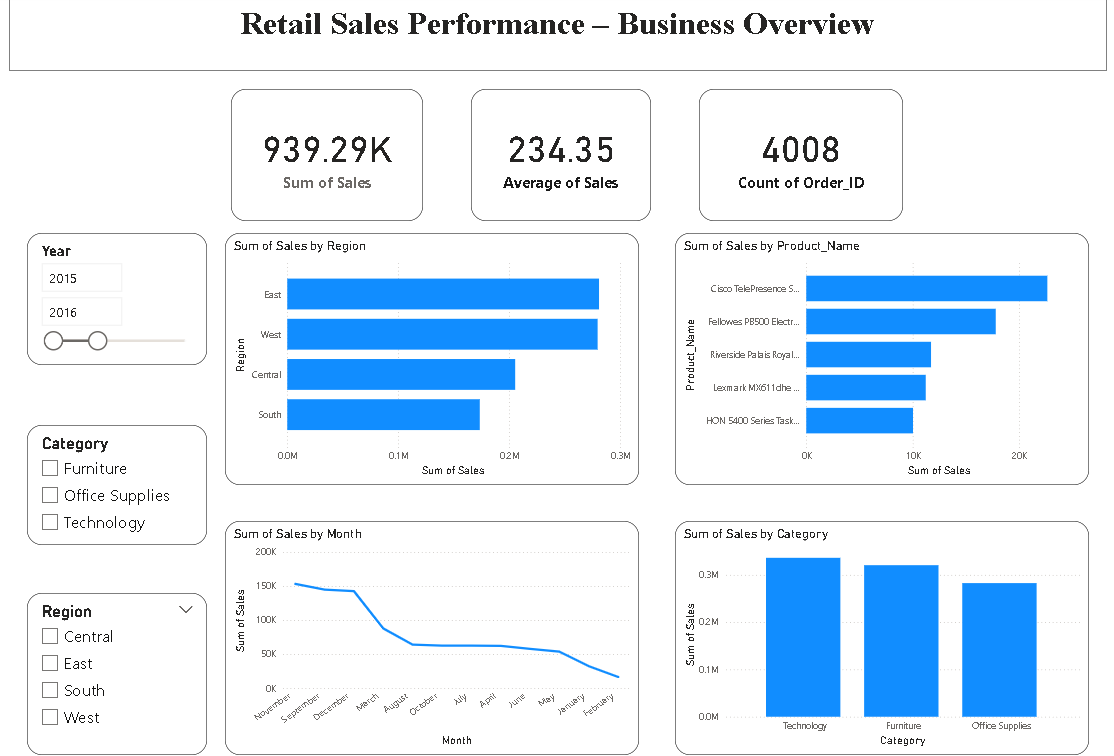

The page's visual inventory and layout, read from the dashboard file:
{"tool":"powerbi","page":{"name":"Page 1","canvas":[1700,1800],"ordinal":0},"visuals":[{"type":"clusteredBarChart","fields":{"Category":["retail_sales_db retail_sales_cleaned.Region"],"Y":["Sum(retail_sales_db retail_sales_cleaned.Sales)"]},"box":[312,336,552,336],"z":0},{"type":"clusteredColumnChart","fields":{"Category":["retail_sales_db retail_sales_cleaned.Category"],"Y":["Sum(retail_sales_db retail_sales_cleaned.Sales)"]},"box":[912,720,552,312],"z":1000},{"type":"lineChart","fields":{"Category":["retail_sales_db retail_sales_cleaned.Month"],"Y":["Sum(retail_sales_db retail_sales_cleaned.Sales)"]},"box":[312,720,552,312],"z":2000},{"type":"clusteredBarChart","fields":{"Category":["retail_sales_db retail_sales_cleaned.Product_Name"],"Y":["Sum(retail_sales_db retail_sales_cleaned.Sales)"]},"box":[912,336,552,336],"z":3000},{"type":"slicer","title":"Year","fields":{"Values":["retail_sales_db retail_sales_cleaned.Year"]},"box":[48,368,240,176],"z":4000},{"type":"slicer","fields":{"Values":["retail_sales_db retail_sales_cleaned.Region"]},"box":[48,816,240,216],"z":5000},{"type":"slicer","fields":{"Values":["retail_sales_db retail_sales_cleaned.Category"]},"box":[48,592,240,160],"z":6000},{"type":"textbox","box":[24,24,1464,96],"z":7000},{"type":"card","fields":{"Values":["CountNonNull(retail_sales_db retail_sales_cleaned.Order_ID)"]},"box":[944,144,272,176],"z":8000},{"type":"card","fields":{"Values":["Avg(retail_sales_db retail_sales_cleaned.Sales)"]},"box":[640,144,240,176],"z":9000},{"type":"card","fields":{"Values":["Sum(retail_sales_db retail_sales_cleaned.Sales)"]},"box":[320,144,256,176],"z":10000}]}

Visuals, with their boxes on the page's 1700x1800 design canvas (x1, y1, x2, y2). These are canvas units, not pixel positions in the 1114x756 screenshot, which may show the page scaled, cropped or inside an application window:
clusteredBarChart - retail_sales_db retail_sales_cleaned.Region x Sum(retail_sales_db retail_sales_cleaned.Sales): bbox=(312, 336, 864, 672)
clusteredColumnChart - retail_sales_db retail_sales_cleaned.Category x Sum(retail_sales_db retail_sales_cleaned.Sales): bbox=(912, 720, 1464, 1032)
lineChart - retail_sales_db retail_sales_cleaned.Month x Sum(retail_sales_db retail_sales_cleaned.Sales): bbox=(312, 720, 864, 1032)
clusteredBarChart - retail_sales_db retail_sales_cleaned.Product_Name x Sum(retail_sales_db retail_sales_cleaned.Sales): bbox=(912, 336, 1464, 672)
"Year" slicer: bbox=(48, 368, 288, 544)
slicer - retail_sales_db retail_sales_cleaned.Region: bbox=(48, 816, 288, 1032)
slicer - retail_sales_db retail_sales_cleaned.Category: bbox=(48, 592, 288, 752)
textbox: bbox=(24, 24, 1488, 120)
card - CountNonNull(retail_sales_db retail_sales_cleaned.Order_ID): bbox=(944, 144, 1216, 320)
card - Avg(retail_sales_db retail_sales_cleaned.Sales): bbox=(640, 144, 880, 320)
card - Sum(retail_sales_db retail_sales_cleaned.Sales): bbox=(320, 144, 576, 320)
